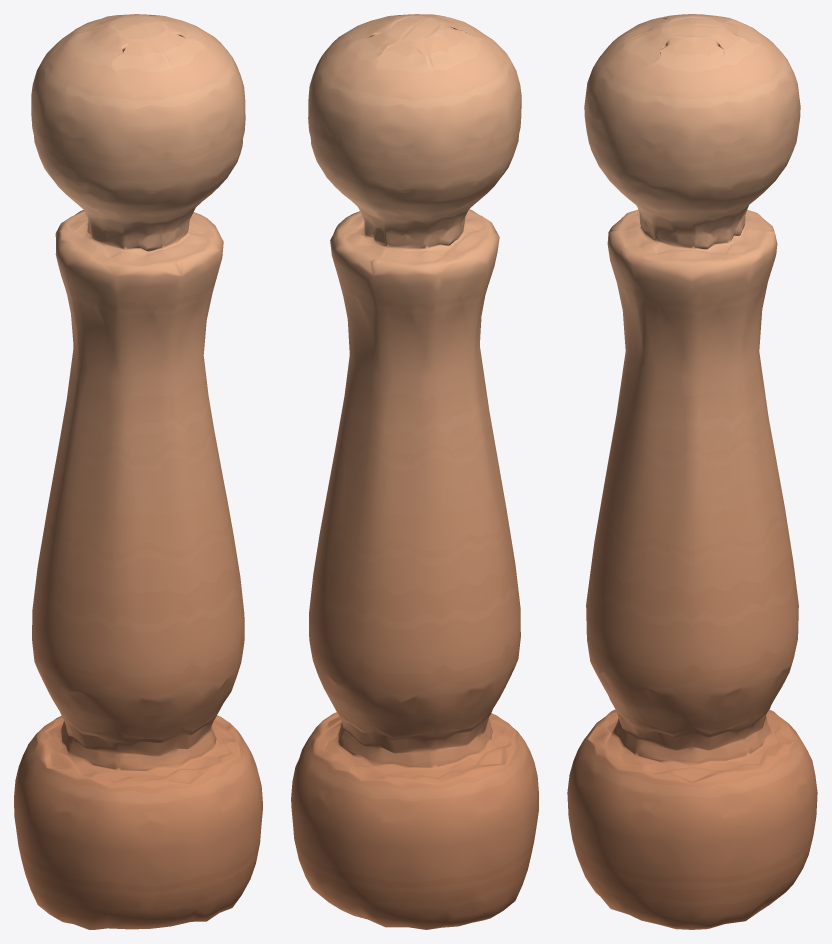
3 renders of one model, left to right at view 1: azimuth 30°, elevation 25°; view 2: azimuth 150°, elevation 25°; view 3: azimuth 270°, elevation 25°, orthographic.
Size of the model in its own units: 0.2614 by 0.9992 by 0.2614.
1 material, 1 textured.
